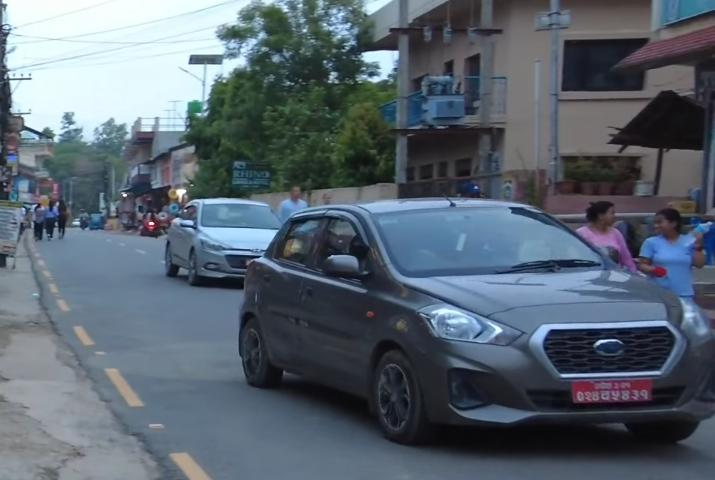car: (233, 193, 715, 451), (159, 191, 280, 291)
